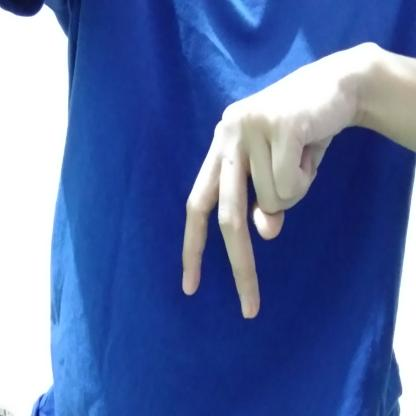run: (148, 37, 359, 327)
